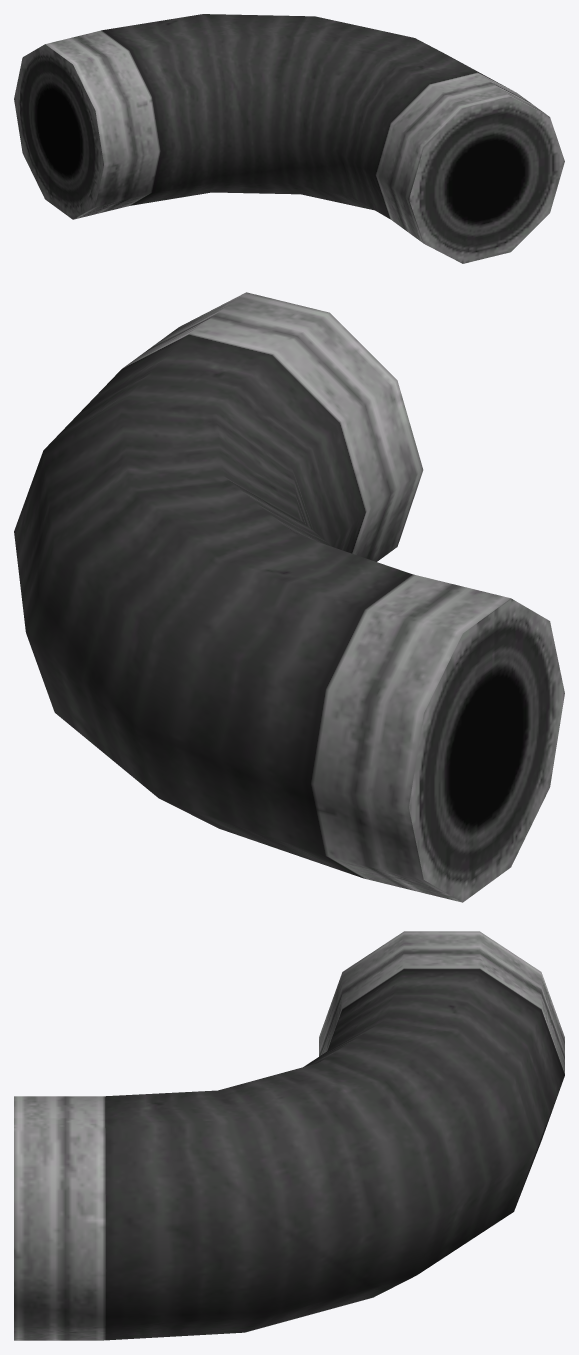
Rendered from lab_bend_90.dae.
3 renders of one model, top to bottom at view 1: azimuth 30°, elevation 25°; view 2: azimuth 150°, elevation 25°; view 3: azimuth 270°, elevation 25°, orthographic. The views are drawn at different scales.
Parts seen in each view (by area): view 1: bend_90; view 2: bend_90; view 3: bend_90.
Boxes of the visible parts, bbox=[...] form: bend_90: bbox=[14, 14, 564, 263]; bend_90: bbox=[14, 292, 564, 902]; bend_90: bbox=[14, 931, 564, 1340].
Bounding box in the file's own units: 0.3219 × 0.1367 × 0.3219.
